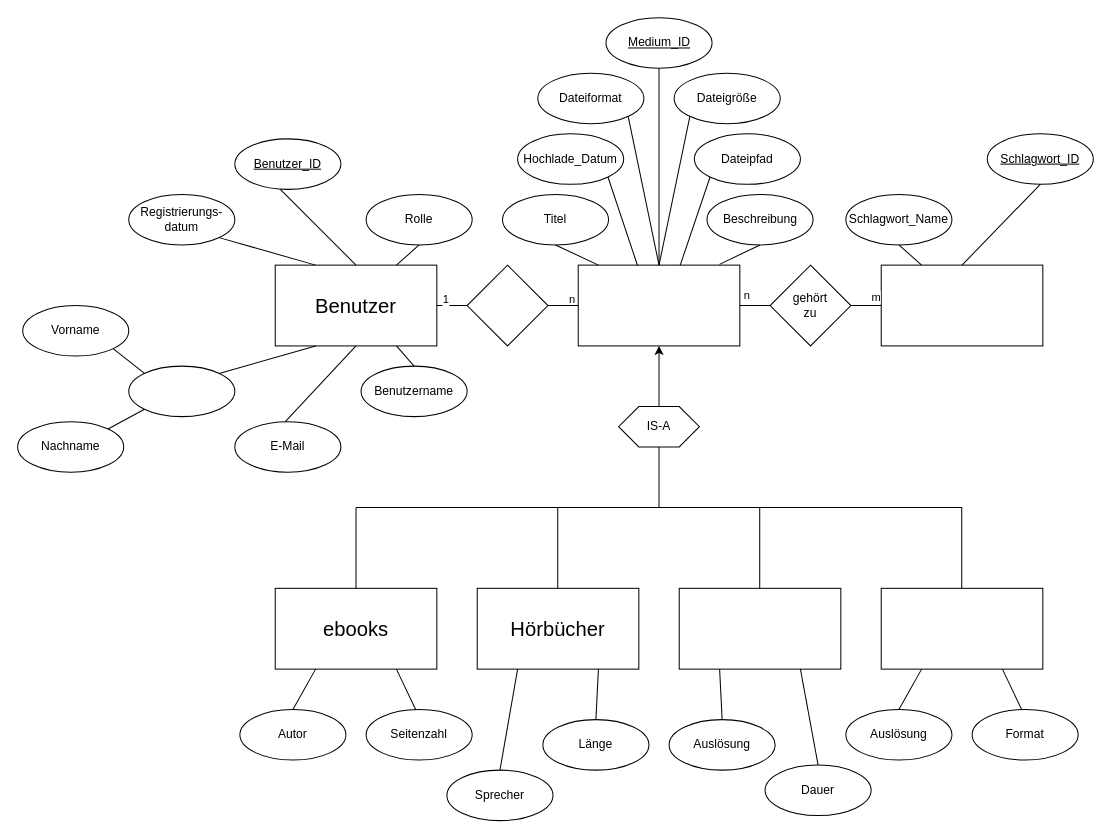
Image size: 1111x838. Some labels were removed from this diagram. The shapes that lost their labels are listed below. From the top down, each one's centre as x and y in pixels, then its label:
At pixel 507 305: "interagiert mit".
At pixel 658 305: "Medium".
At pixel 961 305: "Schlagwort".
At pixel 181 391: "Name".
At pixel 759 628: "Videos".
At pixel 961 628: "Fotos".
